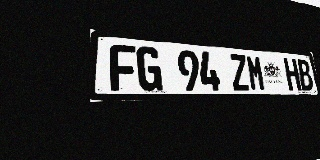4: (198, 51, 221, 91)
9: (177, 49, 201, 91)
B: (296, 59, 314, 91)
F: (110, 44, 137, 91)
G: (136, 46, 163, 91)
H: (283, 58, 302, 91)
M: (246, 55, 266, 91)
Z: (229, 53, 250, 91)
